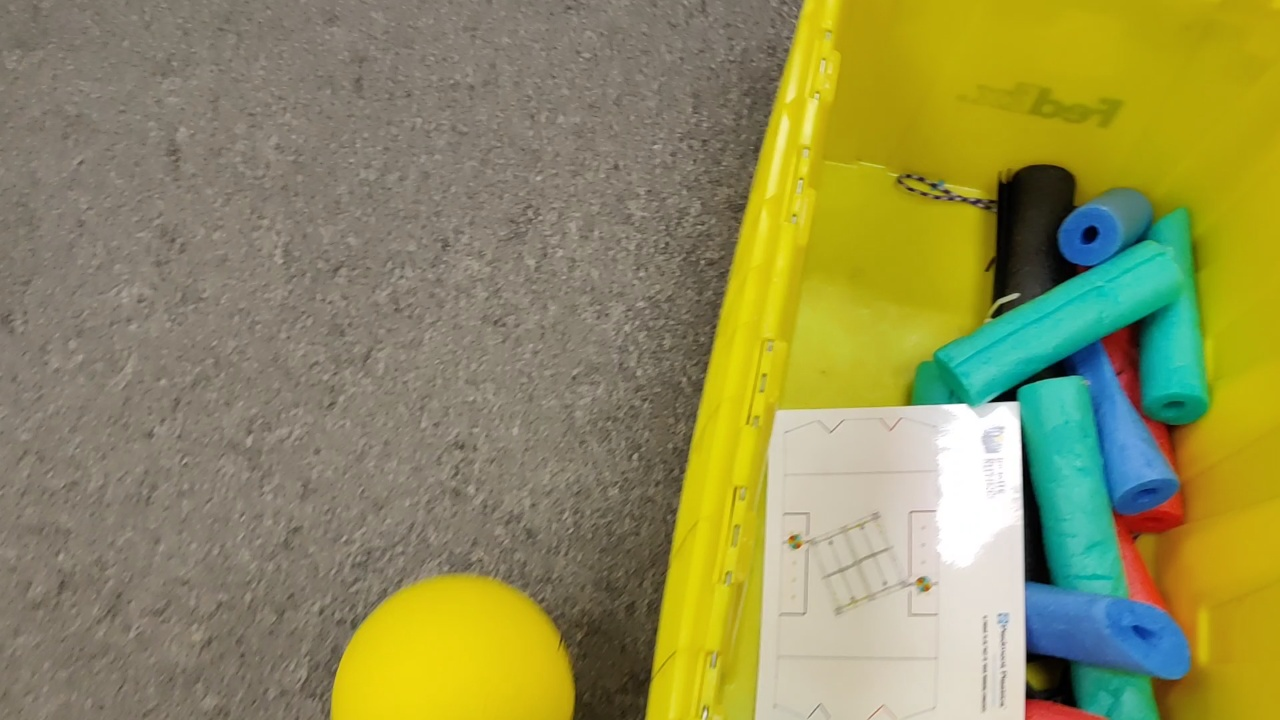Ball: (330, 574, 577, 720)
